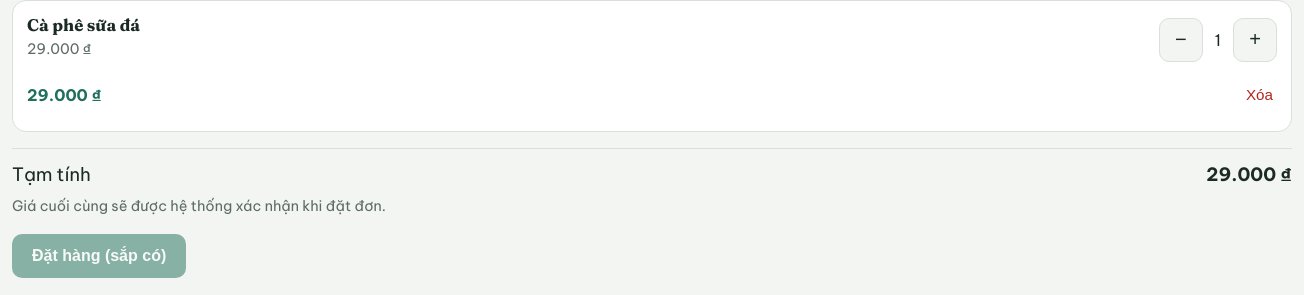
it: CartView › xóa món thì quay về giỏ trống
Click the button with aria-label "Xóa Cà phê sữa đá khỏi giỏ" at (1260, 95), box [1242, 73, 1277, 117]
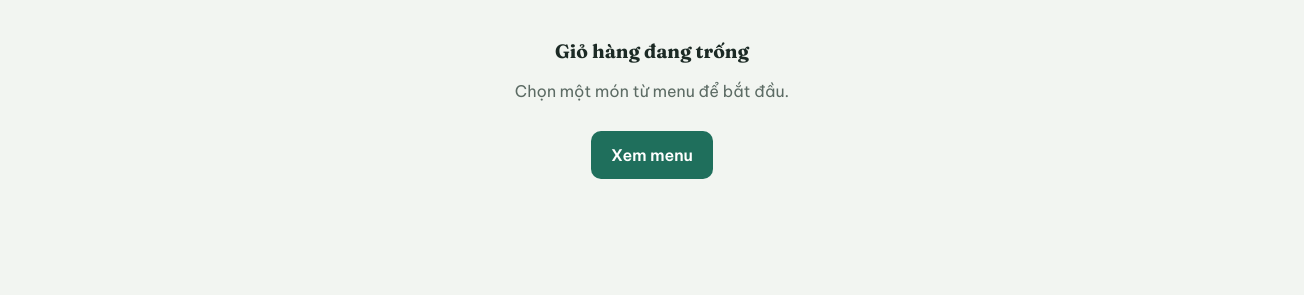
Check: the heading "Giỏ hàng đang trống" is shown, box [555, 39, 749, 63]
